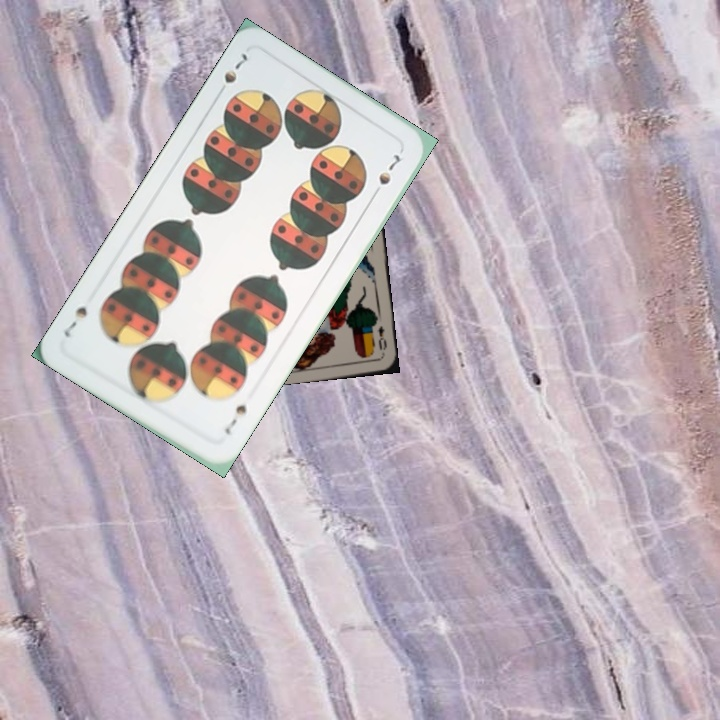EO: (373, 321, 390, 353)
S7: (212, 49, 250, 100), (221, 400, 249, 438)
